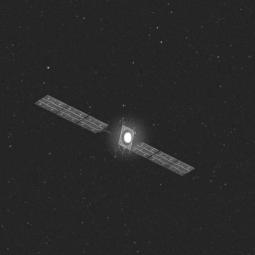smart_1: (33, 91, 203, 186)
